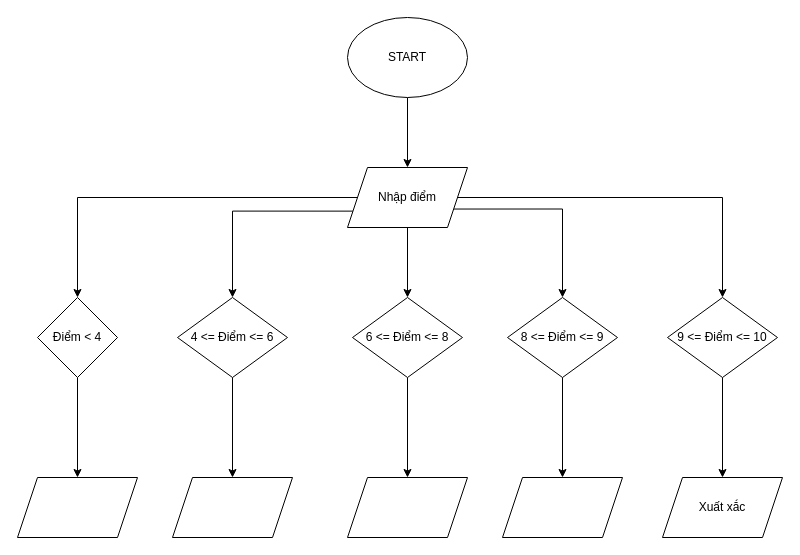
The diagram is 800 pixels wide and 555 high, and some of its shapes have lost their labels. Each missing label, with the box of its shape:
Giỏi: (502, 476, 622, 538)
Khá: (346, 476, 468, 538)
Không đạt: (16, 476, 138, 538)
Trung bình: (172, 476, 292, 538)
